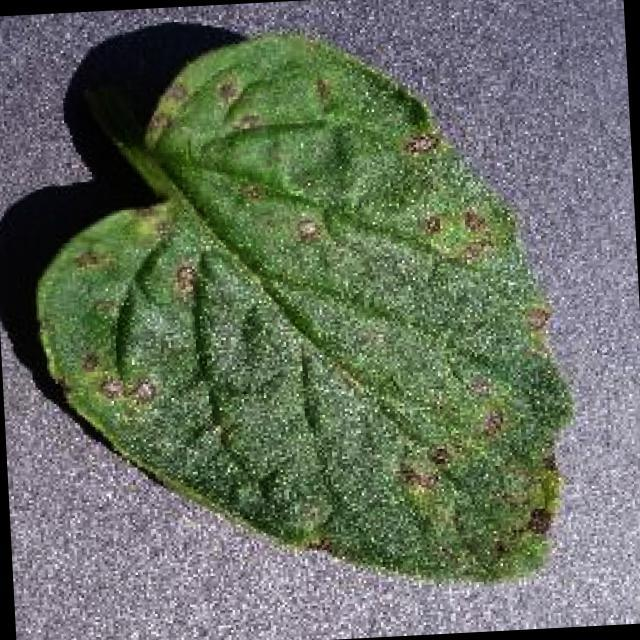Tomato Septoria spot leaf: (21, 18, 580, 606)
